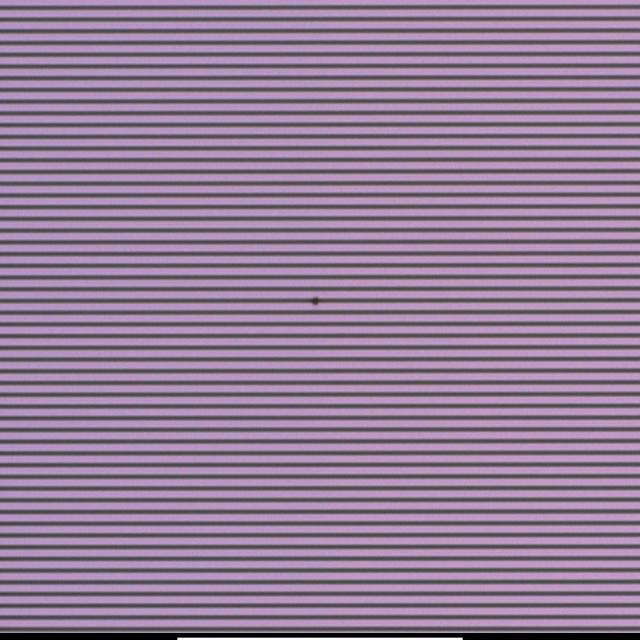03_intrusion: (308, 290, 323, 310)
